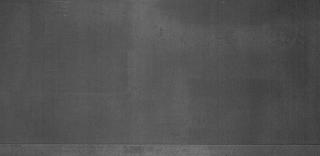welding line: (2, 141, 320, 149)
